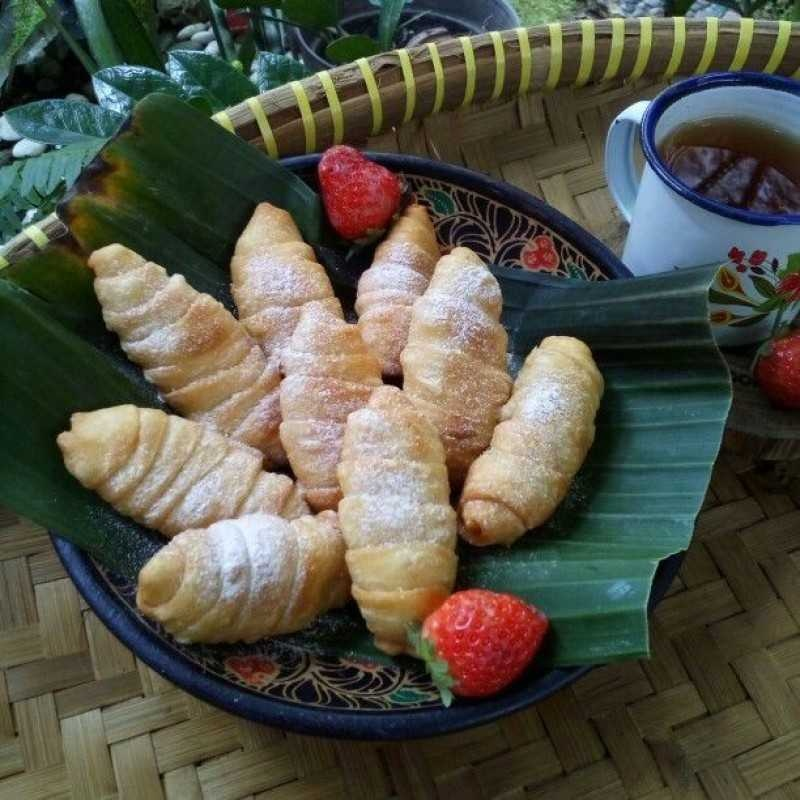pisang_molen: (116, 515, 366, 644), (338, 382, 462, 641), (458, 332, 608, 541)
